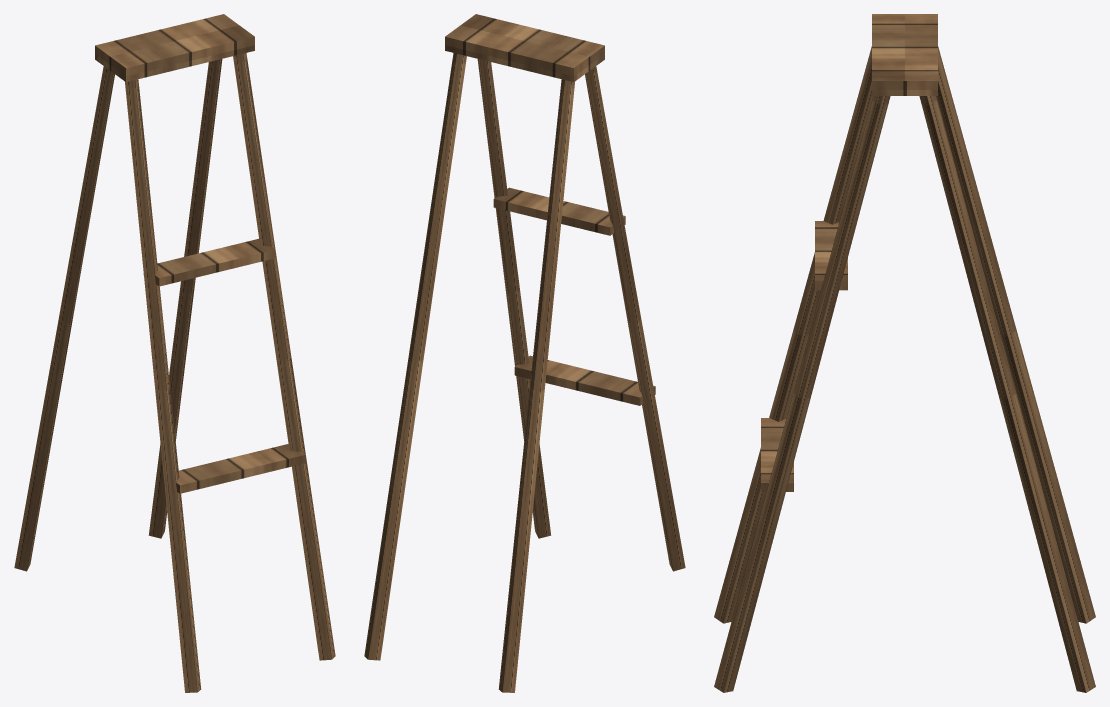
Rendered from Ladder_Wood_1_LOD2.gltf.
3 views of the same model, side by side, from view 1: azimuth 30°, elevation 25°; view 2: azimuth 150°, elevation 25°; view 3: azimuth 270°, elevation 25° (orthographic). The views are drawn at different scales.
Parts seen in each view (by area): view 1: Ladder_Wood_1_LOD2; view 2: Ladder_Wood_1_LOD2; view 3: Ladder_Wood_1_LOD2.
Boxes of the visible parts, x1,y1,x2,y2 form: Ladder_Wood_1_LOD2: (14,14,335,692); Ladder_Wood_1_LOD2: (364,14,685,692); Ladder_Wood_1_LOD2: (714,14,1095,692).
Bounding box in the file's own units: 0.56 × 2.04 × 1.16.
Materials: 1 (1 with a texture image).
